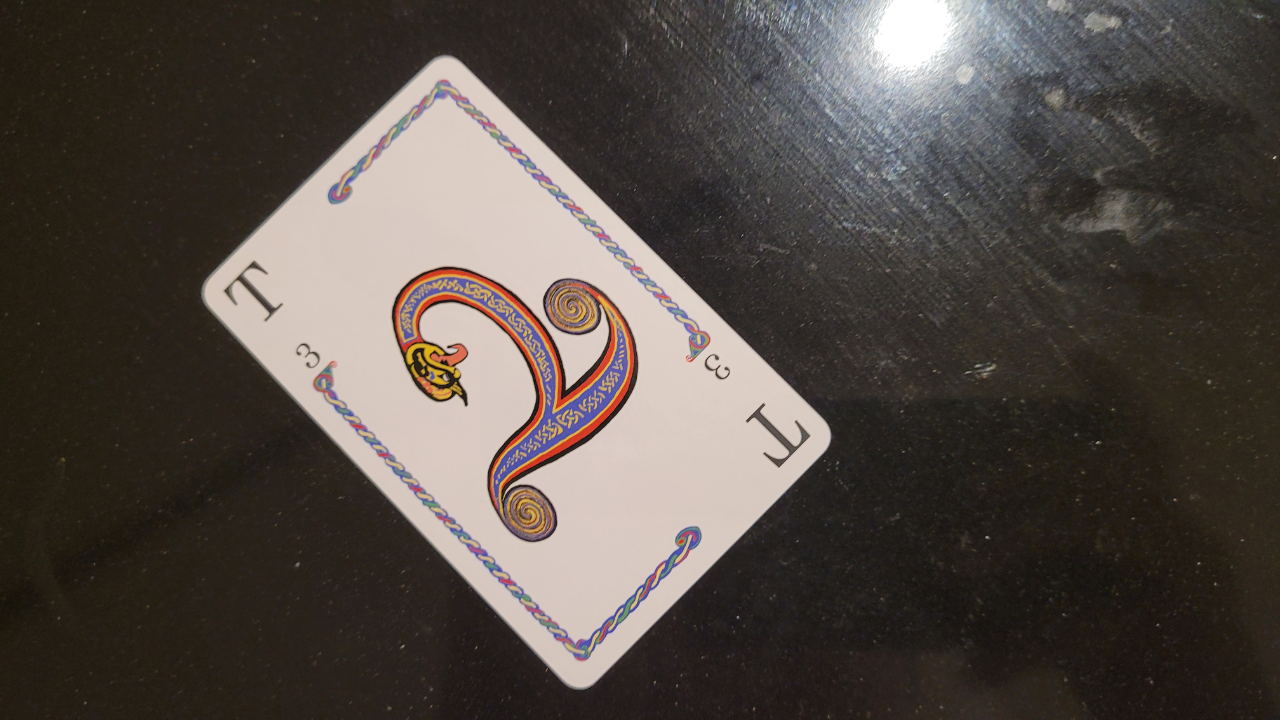quiddler_card: (180, 46, 849, 702)
